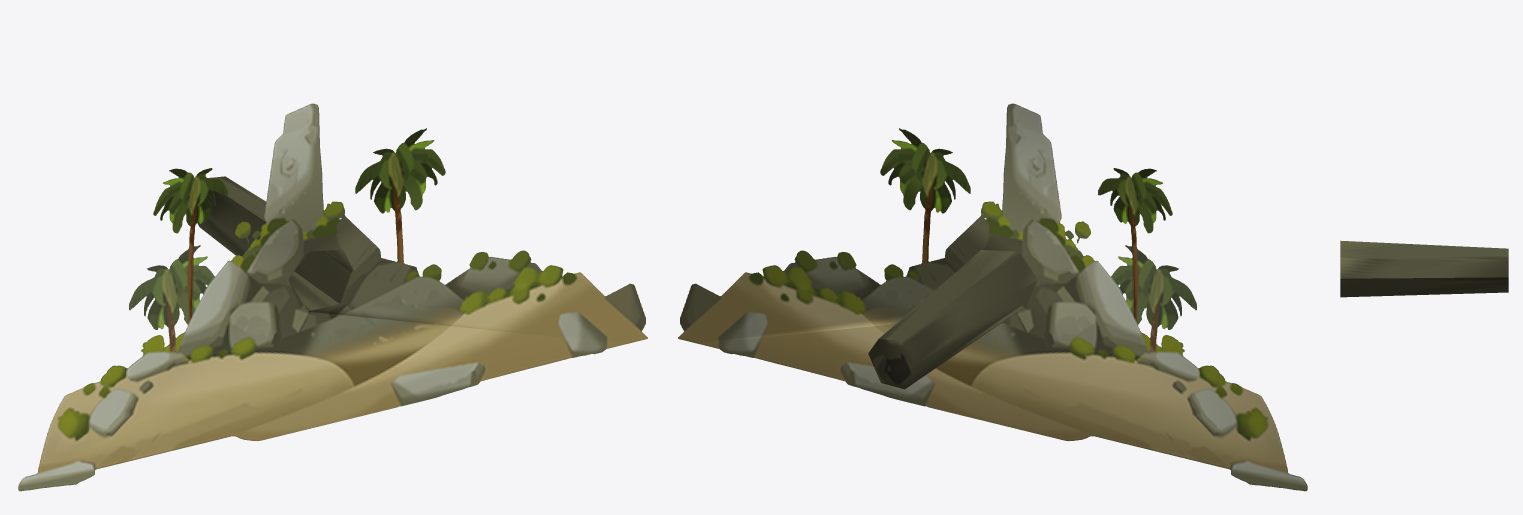
Rendered from Chapter4Scene1Model15.FBX.
The picture shows the model from 3 angles, left to right: view 1: azimuth 30°, elevation 25°; view 2: azimuth 150°, elevation 25°; view 3: azimuth 270°, elevation 25°; orthographic projection. The views are drawn at different scales.
Parts seen in each view (by area): view 1: Chapter4Scene1Model15; view 2: Chapter4Scene1Model15; view 3: Chapter4Scene1Model15.
Part boxes in pixels (x1,y1,x2,y2): Chapter4Scene1Model15: (18, 103, 647, 491); Chapter4Scene1Model15: (678, 103, 1307, 491); Chapter4Scene1Model15: (1340, 240, 1508, 297).
Size of the model in its own units: 163 by 49.35 by 81.49.
